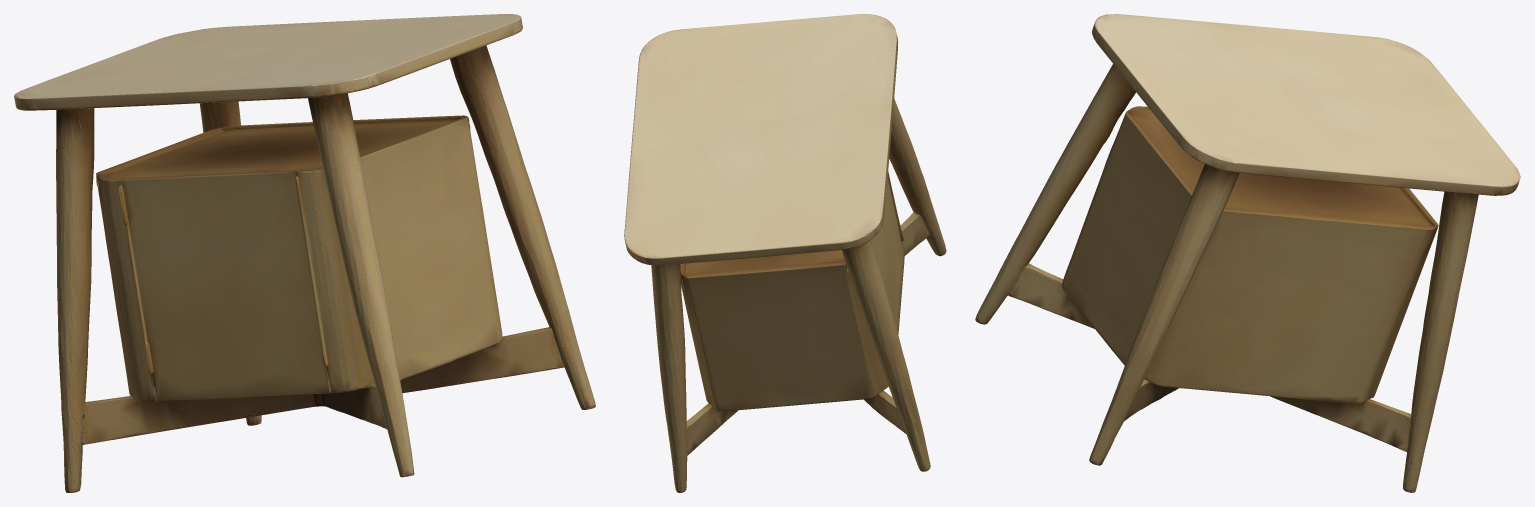
Rendered from light_wood_nightstand_000.glb.
3 views of the same model, side by side, from view 1: azimuth 30°, elevation 25°; view 2: azimuth 150°, elevation 25°; view 3: azimuth 270°, elevation 25° (orthographic). The views are drawn at different scales.
Parts seen in each view (by area): view 1: light_wood_nightstand_000.obj; view 2: light_wood_nightstand_000.obj; view 3: light_wood_nightstand_000.obj.
Boxes of the visible parts, x1=… form: light_wood_nightstand_000.obj: x1=14, y1=14, x2=595, y2=492; light_wood_nightstand_000.obj: x1=624, y1=14, x2=946, y2=492; light_wood_nightstand_000.obj: x1=975, y1=14, x2=1520, y2=492.
Bounding box in the file's own units: 0.3283 × 0.3739 × 0.423.
1 material, 1 textured.
